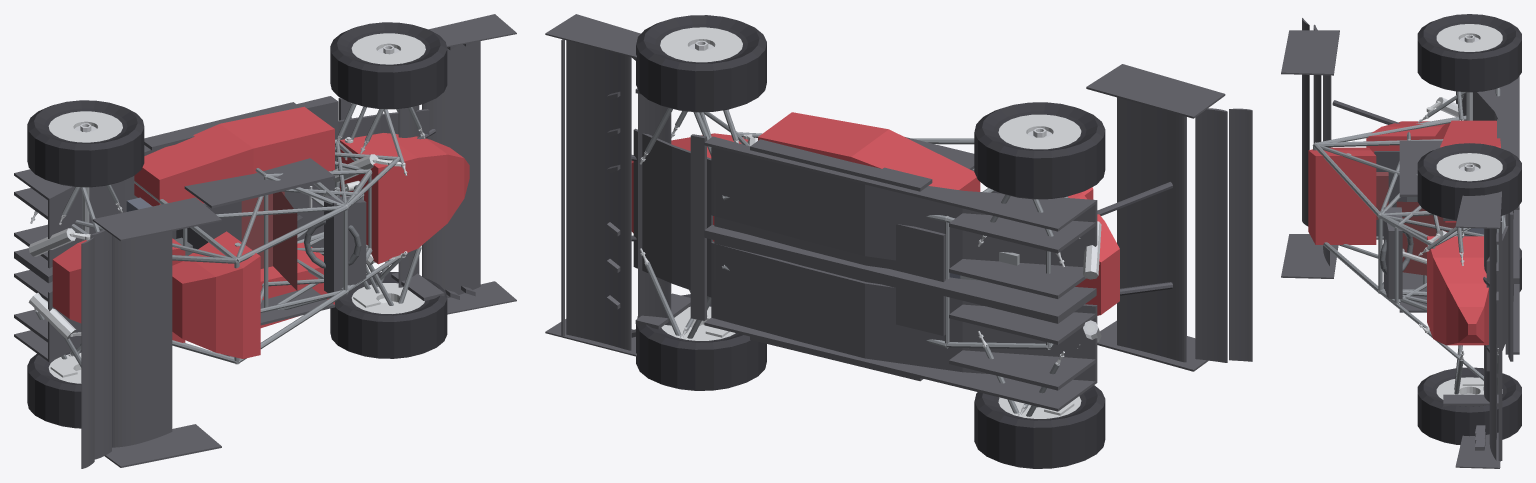
Rendered from car.glb.
The picture shows the model from 3 angles, left to right: view 1: azimuth 30°, elevation 25°; view 2: azimuth 150°, elevation 25°; view 3: azimuth 270°, elevation 25°; orthographic projection. The views are drawn at different scales.
Visible parts, largest first — view 1: aero.rear_wing.main, body.sidepod.left, body.nose, aero.front_wing.main, body.helmet_fairing, wheel.tire.后左, wheel.tire.前左, wheel.tire.前右, aero.rear_wing.flap1, aero_ground.underbody.left, body.cockpit_panel.left, aero.rear_wing.flap2 (+33 smaller); view 2: aero_ground.underbody.right, aero.front_wing.main, aero_ground.underbody.left, aero.rear_wing.main, wheel.tire.后左, wheel.tire.前左, aero.rear_wing.flap1, aero_ground.nose_duct, wheel.tire.后右, cockpit.floor, body.sidepod.left, aero_ground.keel (+19 smaller); view 3: body.nose, body.helmet_fairing, wheel.tire.后左, wheel.tire.前左, wheel.tire.前右, aero.rear_wing.endplate.left, aero.rear_wing.endplate.right, aero.front_wing.main, aero.front_wing.endplate.left, wheel.rim.前左, wheel.rim.后左, body.cockpit_panel.left (+33 smaller).
Part boxes in pixels (bbox=[...]): aero.rear_wing.main: bbox=[112, 231, 172, 447]; body.sidepod.left: bbox=[134, 106, 334, 206]; body.nose: bbox=[340, 133, 469, 264]; aero.front_wing.main: bbox=[422, 41, 480, 298]; body.helmet_fairing: bbox=[172, 231, 260, 358]; wheel.tire.后左: bbox=[27, 100, 144, 187]; wheel.tire.前左: bbox=[330, 22, 447, 109]; wheel.tire.前右: bbox=[330, 272, 447, 358]; aero.rear_wing.flap1: bbox=[90, 229, 111, 459]; aero_ground.underbody.left: bbox=[48, 100, 338, 268]; body.cockpit_panel.left: bbox=[184, 158, 334, 208]; aero.rear_wing.flap2: bbox=[81, 237, 94, 468]; aero_ground.underbody.right: bbox=[711, 241, 1097, 383]; aero.front_wing.main: bbox=[566, 40, 631, 350]; aero_ground.underbody.left: bbox=[711, 136, 1097, 278]; aero.rear_wing.main: bbox=[1117, 97, 1186, 362]; wheel.tire.后左: bbox=[974, 102, 1105, 199]; wheel.tire.前左: bbox=[636, 15, 766, 112]; aero.rear_wing.flap1: bbox=[1195, 108, 1227, 362]; aero_ground.nose_duct: bbox=[633, 128, 712, 297]; wheel.tire.后右: bbox=[974, 385, 1105, 468]; cockpit.floor: bbox=[714, 179, 945, 335]; body.sidepod.left: bbox=[758, 112, 980, 191]; aero_ground.keel: bbox=[704, 225, 1096, 323]; body.nose: bbox=[1427, 236, 1488, 345]; body.helmet_fairing: bbox=[1308, 147, 1376, 244]; wheel.tire.后左: bbox=[1417, 14, 1521, 92]; wheel.tire.前左: bbox=[1417, 143, 1521, 220]; wheel.tire.前右: bbox=[1417, 367, 1521, 444]; aero.rear_wing.endplate.left: bbox=[1281, 30, 1339, 75]; aero.rear_wing.endplate.right: bbox=[1281, 234, 1338, 278]; aero.front_wing.main: bbox=[1489, 228, 1496, 460]; aero.front_wing.endplate.left: bbox=[1455, 191, 1501, 228]; wheel.rim.前左: bbox=[1436, 153, 1502, 181]; wheel.rim.后左: bbox=[1436, 24, 1502, 51]; body.cockpit_panel.left: bbox=[1399, 140, 1442, 196].
Bounding box in the file's own units: 2.68 × 1.43 × 1.19.
